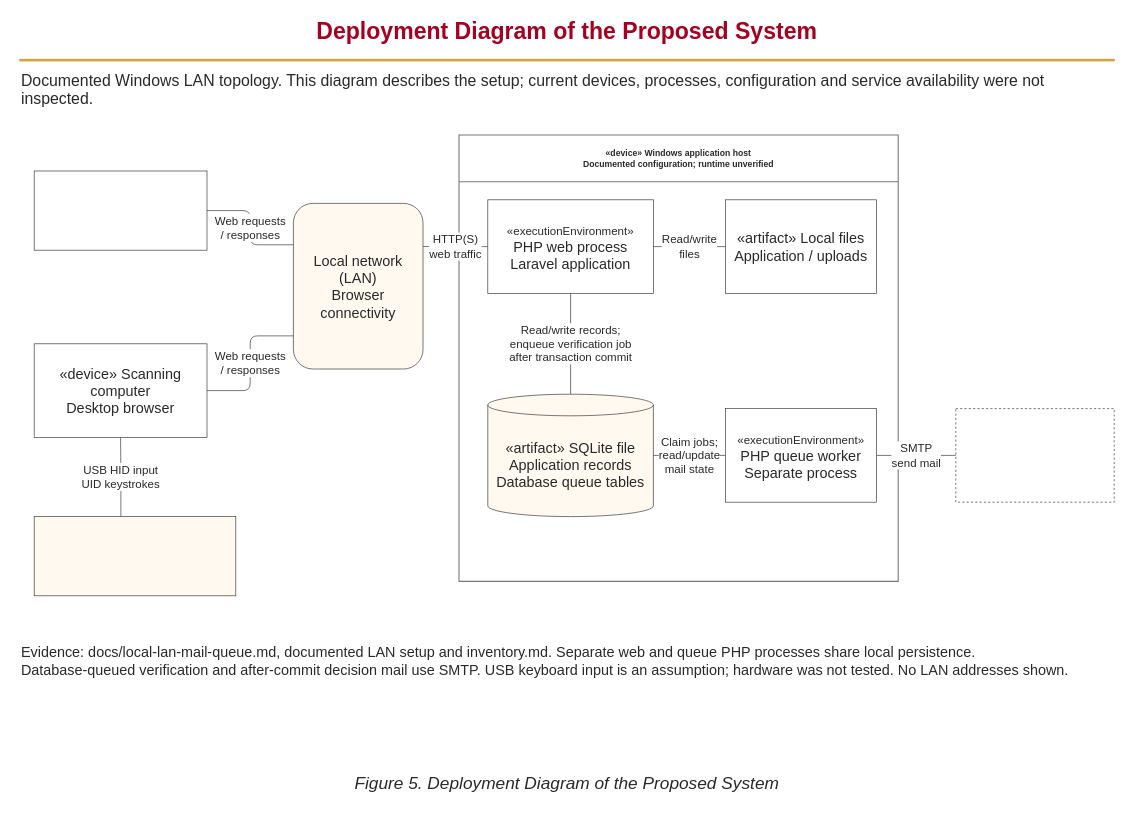
The diagram is 1133 pixels wide and 813 high, and some of its shapes have lost their labels. The centre of each missing label's shape, as x and y in pixels:
«device» Phone Web browser: (x=120, y=210)
«device» USB reader Keyboard-style input Hardware unverified: (x=134, y=556)
«executionEnvironment» SMTP transport External mail service: (x=1034, y=455)
